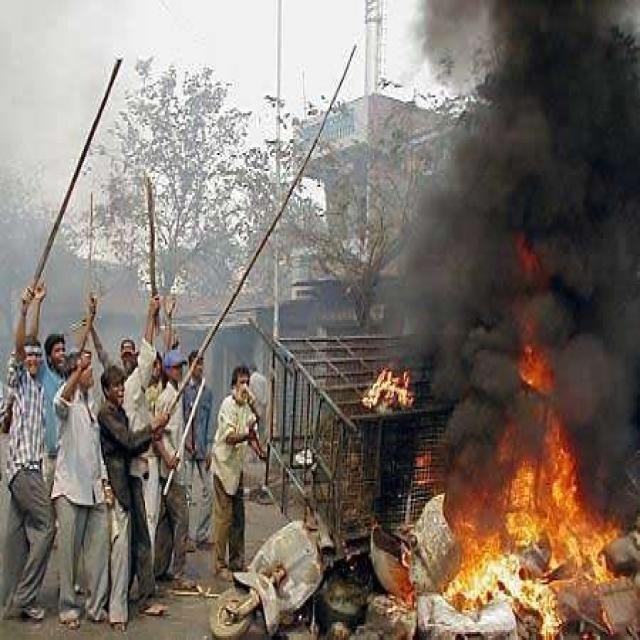Fire: (440, 334, 624, 640), (361, 366, 414, 416)
Smoke: (377, 2, 640, 523)
